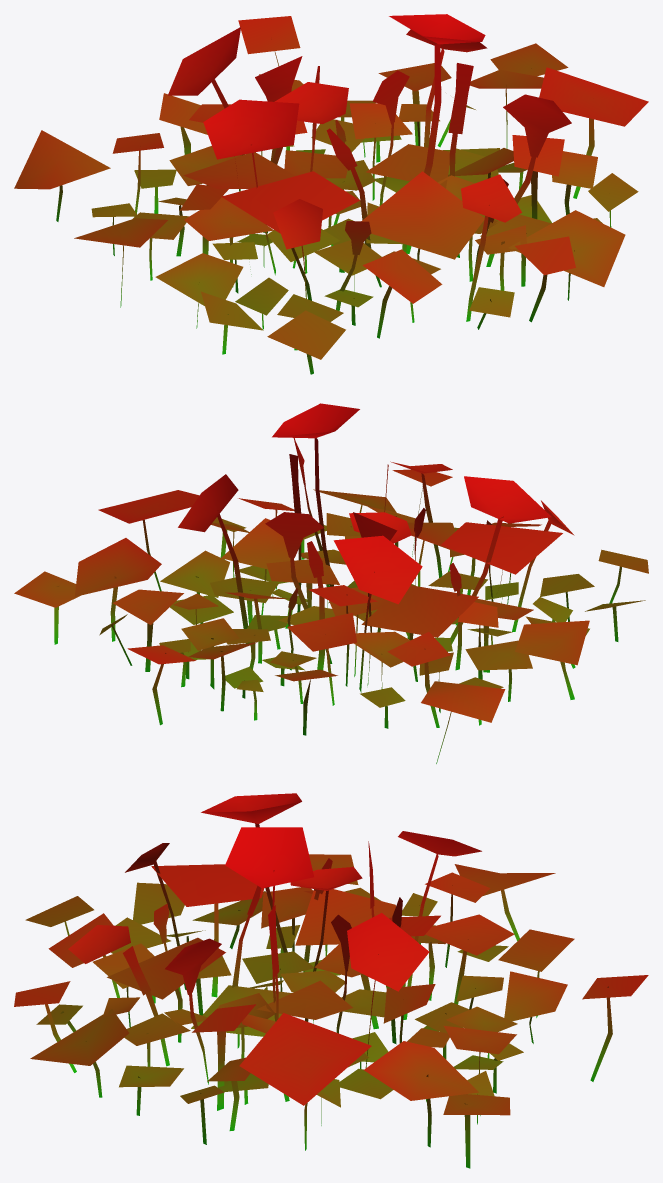
Rendered from Var8_LOD2.fbx.
The picture shows the model from 3 angles, top to bottom: view 1: azimuth 30°, elevation 25°; view 2: azimuth 150°, elevation 25°; view 3: azimuth 270°, elevation 25°; orthographic projection. The views are drawn at different scales.
Visible parts, largest first — view 1: _359b_Var8_LOD2; view 2: _359b_Var8_LOD2; view 3: _359b_Var8_LOD2.
Boxes of the visible parts, left/top/right/bottom form: _359b_Var8_LOD2: left=14, top=14, right=648, bottom=374; _359b_Var8_LOD2: left=14, top=403, right=648, bottom=763; _359b_Var8_LOD2: left=14, top=793, right=648, bottom=1168.
Size of the model in its own units: 46.44 by 19.05 by 46.06.
